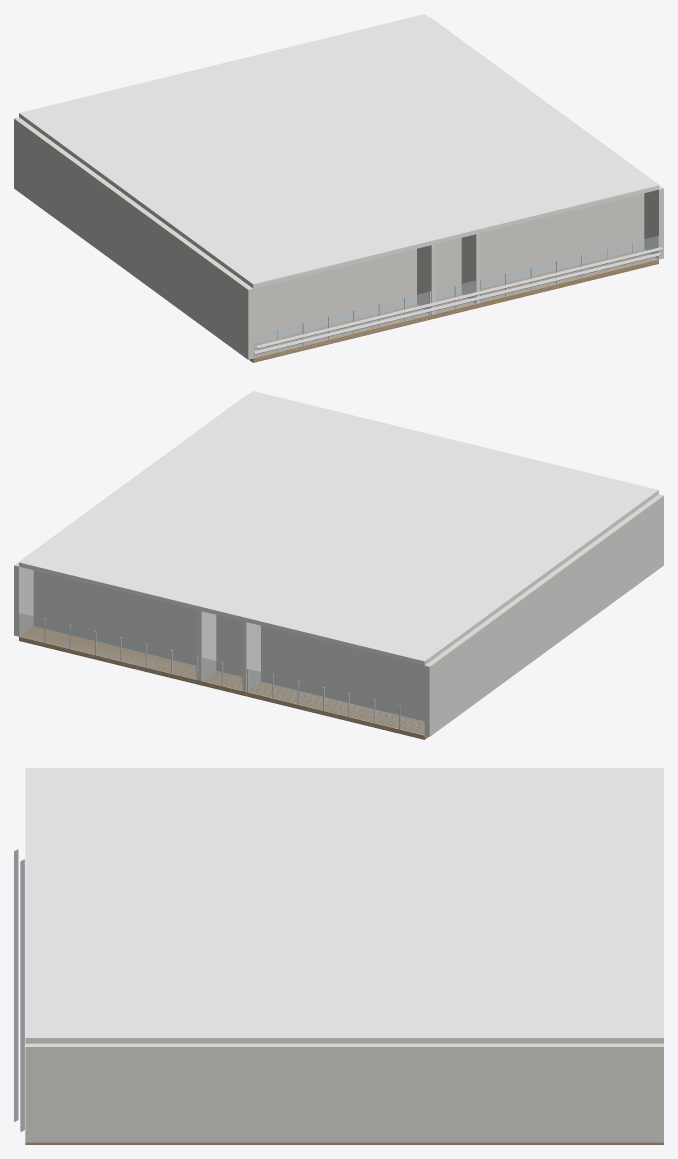
Rendered from resident.glb.
3 views of the same model, one above another, from view 1: azimuth 30°, elevation 25°; view 2: azimuth 150°, elevation 25°; view 3: azimuth 270°, elevation 25° (orthographic). The views are drawn at different scales.
Parts seen in each view (by area): view 1: ceiling, wall_South, wall_West, Rail_South_Glass, slab, Louver_S_00, Louver_S_01, wall_East, wall_CorrRight, wall_CorrLeft, Balcony_South_Floor; view 2: ceiling, wall_North, wall_West, Rail_North_Glass, slab, Balcony_North_Floor, wall_East, wall_CorrRight, wall_CorrLeft; view 3: ceiling, wall_East, slab, Louver_S_00, Louver_S_01.
Part boxes in pixels (x1=…): ceiling: x1=19, y1=14, x2=658, y2=288; wall_South: x1=253, y1=193, x2=644, y2=343; wall_West: x1=14, y1=117, x2=253, y2=359; Rail_South_Glass: x1=253, y1=236, x2=657, y2=357; slab: x1=249, y1=249, x2=658, y2=362; Louver_S_00: x1=253, y1=252, x2=660, y2=354; Louver_S_01: x1=256, y1=247, x2=662, y2=348; wall_East: x1=429, y1=17, x2=663, y2=259; wall_CorrRight: x1=461, y1=233, x2=480, y2=304; wall_CorrLeft: x1=417, y1=244, x2=435, y2=314; Balcony_South_Floor: x1=250, y1=259, x2=658, y2=361; ceiling: x1=19, y1=391, x2=658, y2=665; wall_North: x1=33, y1=570, x2=424, y2=720; wall_West: x1=424, y1=494, x2=663, y2=736; Rail_North_Glass: x1=20, y1=613, x2=424, y2=734; slab: x1=19, y1=626, x2=428, y2=739; Balcony_North_Floor: x1=19, y1=637, x2=425, y2=738; wall_East: x1=14, y1=394, x2=248, y2=636; wall_CorrRight: x1=197, y1=610, x2=216, y2=681; wall_CorrLeft: x1=242, y1=621, x2=260, y2=691; ceiling: x1=25, y1=768, x2=663, y2=1043; wall_East: x1=25, y1=1043, x2=663, y2=1142; slab: x1=25, y1=1142, x2=663, y2=1144; Louver_S_00: x1=20, y1=859, x2=24, y2=1131; Louver_S_01: x1=14, y1=849, x2=18, y2=1121.
Bounding box in the file's own units: 20.5 × 3.7 × 20.36.
